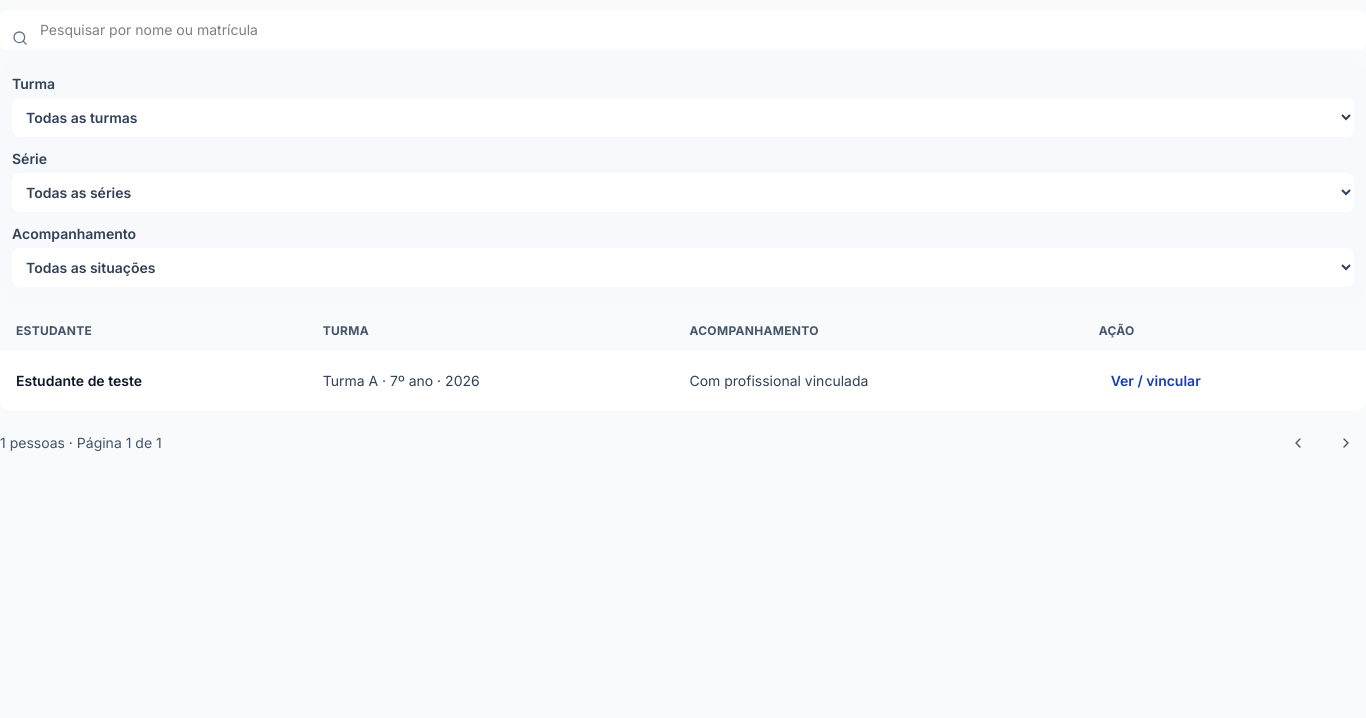
Scenario: PsychologyStudentRoster › agrupa a pessoa por perfil e só mostra matrículas e autorização após seleção
Check: the row "Estudante de teste" is shown, box 0,351 -> 1365,411
Check: the column heading "Turma" is shown, box 307,311 -> 673,351
Click the button "Ver / vincular" at (1156, 381), box 1099,363 -> 1213,399
(page scrolled)
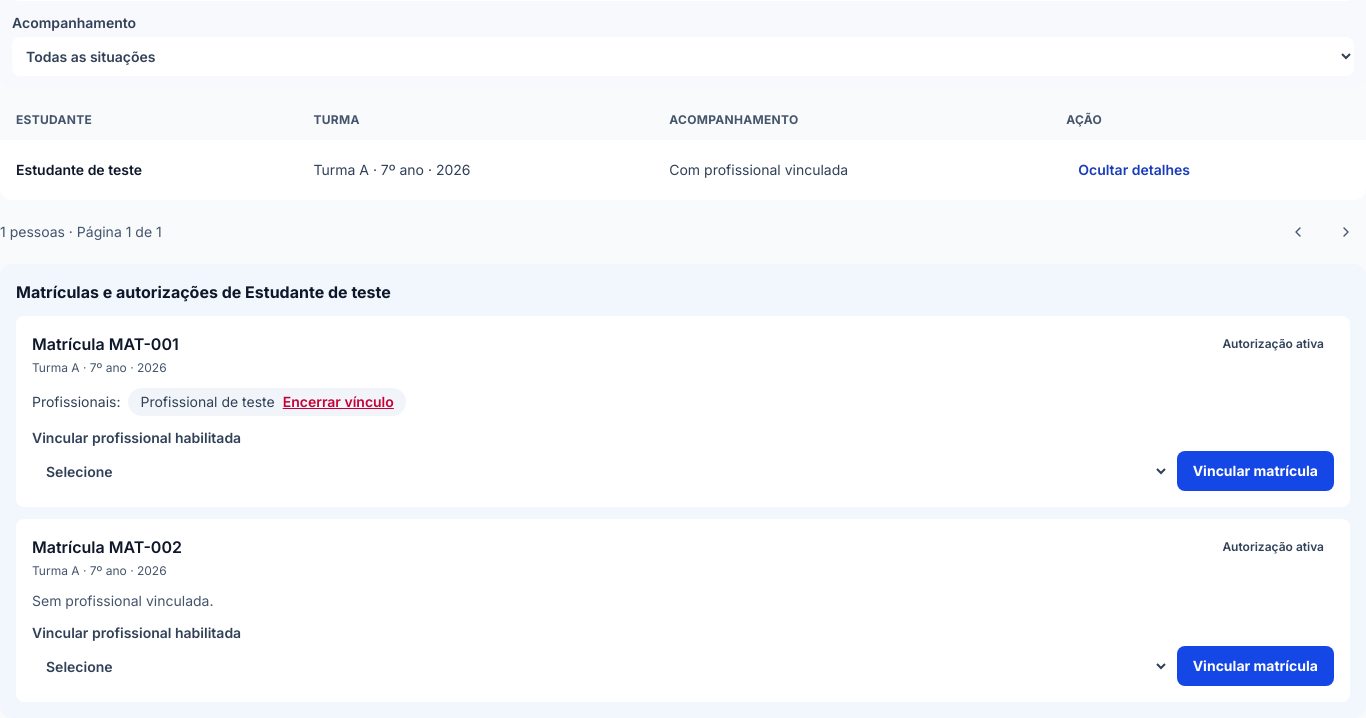
Check: the element named "detalhes de estudante de teste" is shown
Check: the text "Matrícula MAT-001" is shown, box 32,332 -> 179,356
Check: the text "Matrícula MAT-002" is shown, box 32,535 -> 182,559
